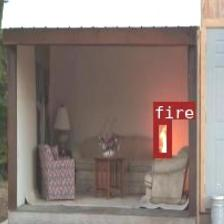fire: (153, 119, 171, 157)
